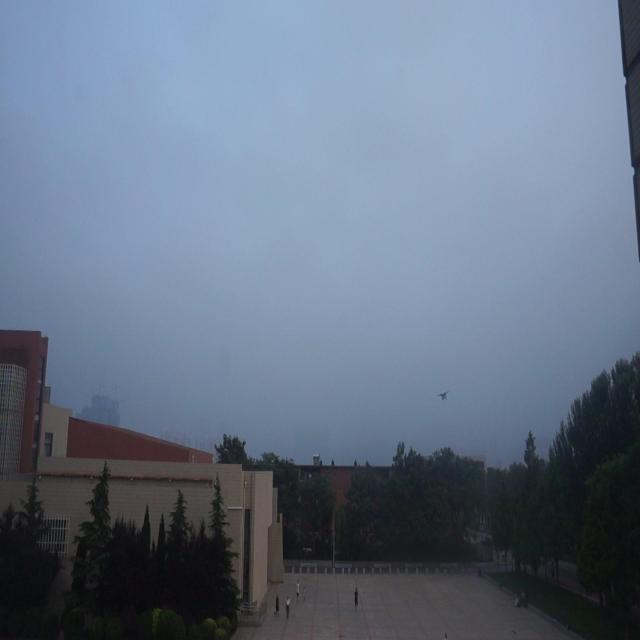drone: (437, 387, 452, 406)
